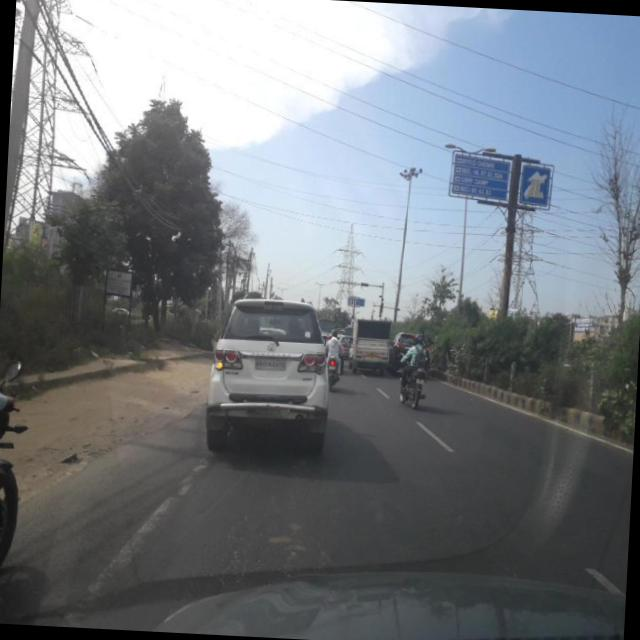crack: (195, 474, 356, 593)
